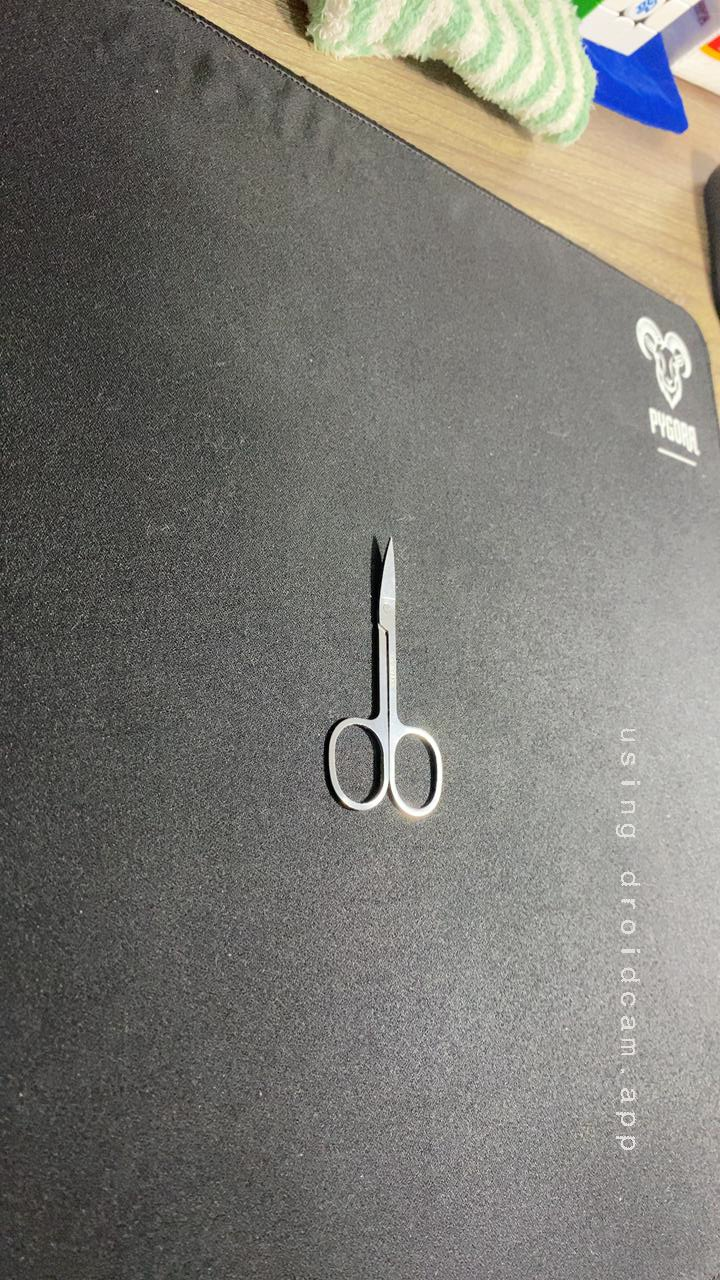scissor: (301, 529, 468, 836)
